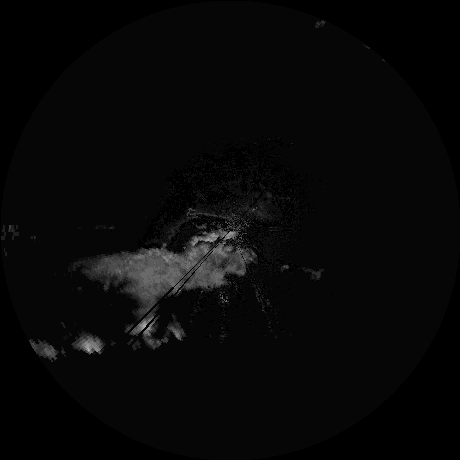frontgust: (181, 208, 236, 221)
